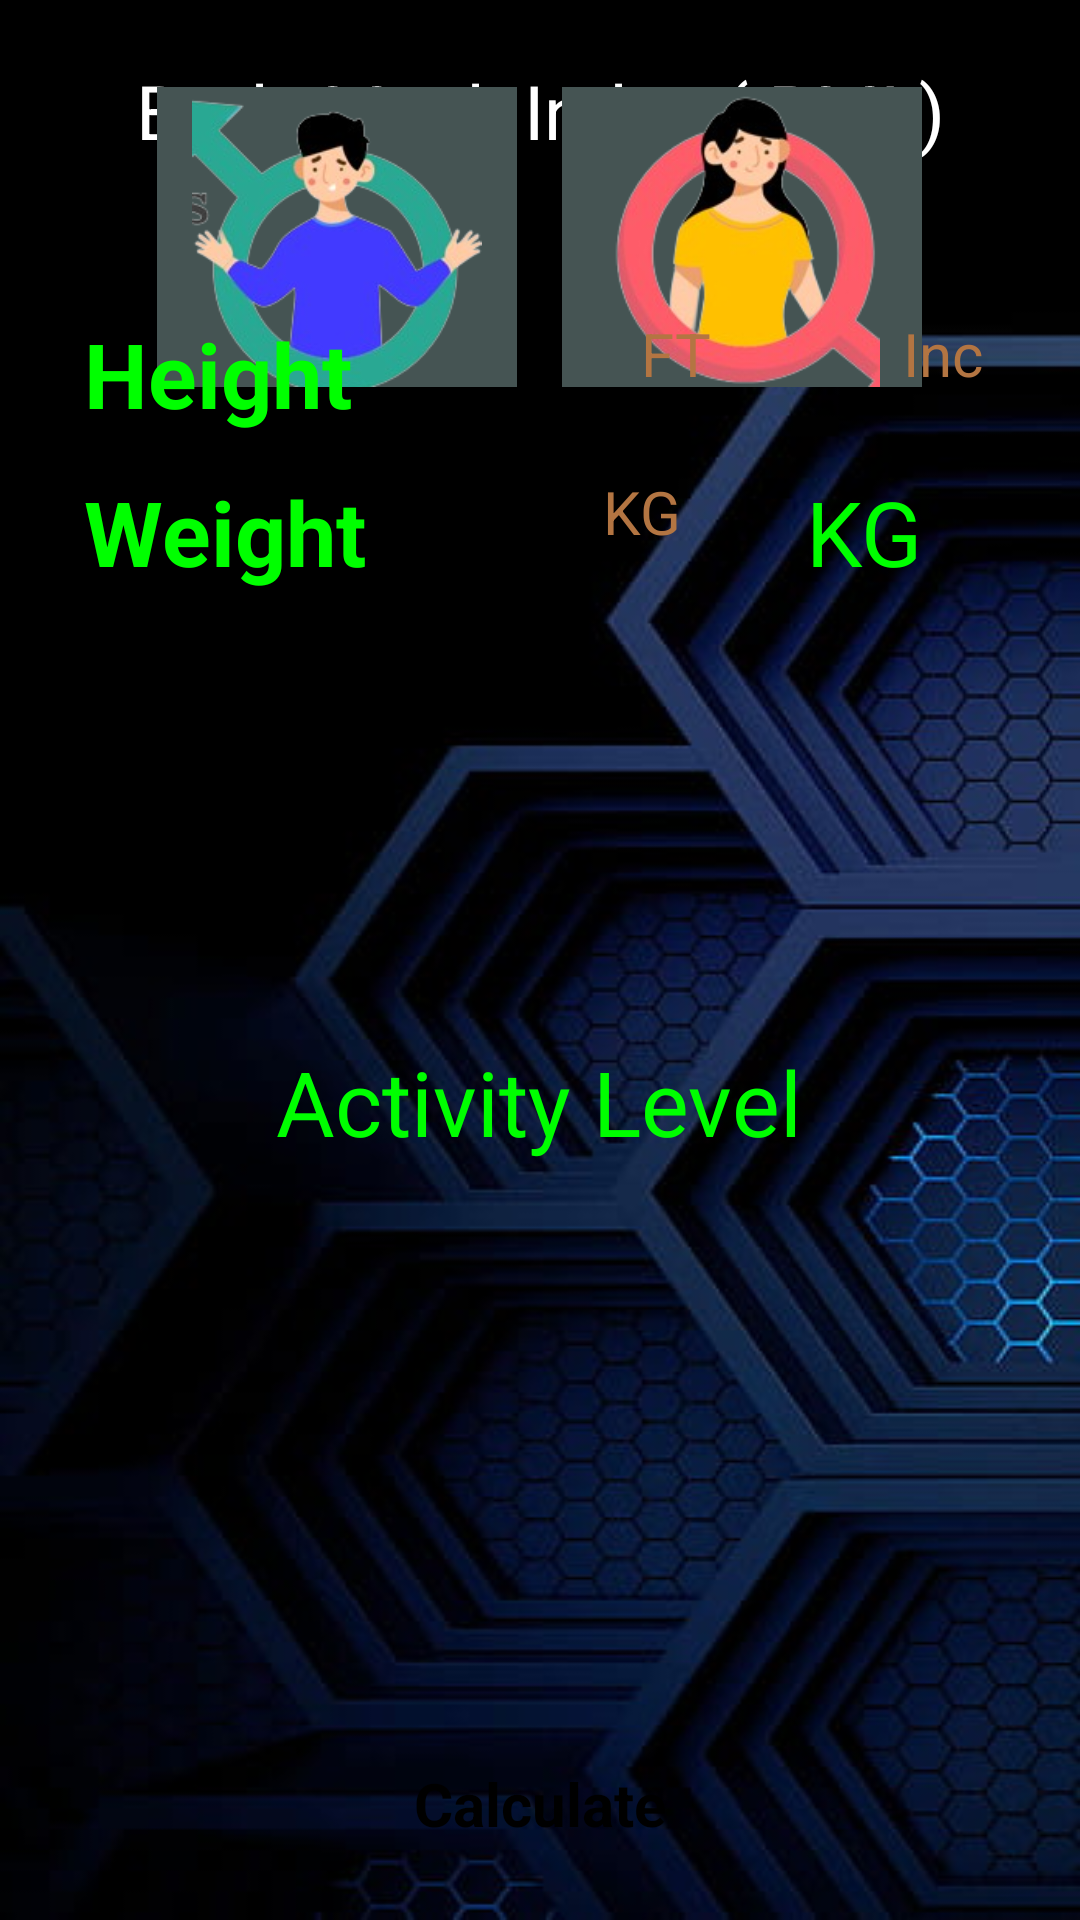

Locate icon controls on the screen. Image size 1080 x 1920, boxes as (x1, y1, x2, y2).
female: (562, 87, 922, 387)
male: (157, 87, 517, 387)
